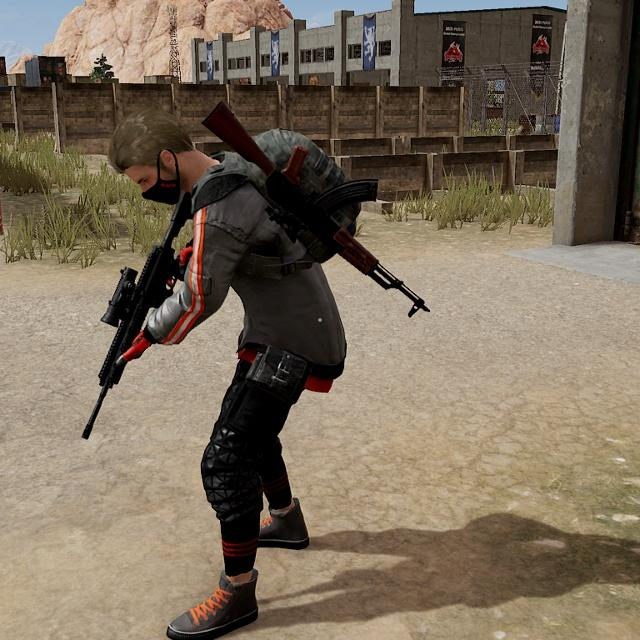head: (106, 113, 216, 209)
people: (99, 108, 357, 640)
